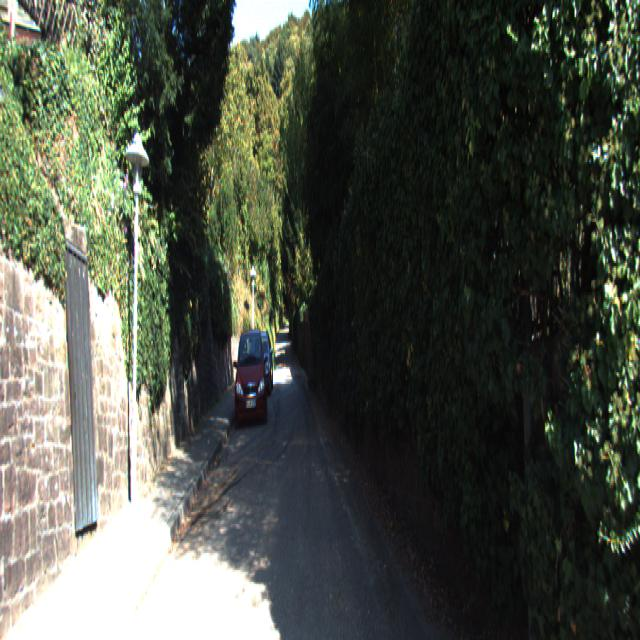Car: (233, 327, 267, 436), (246, 326, 274, 403)
